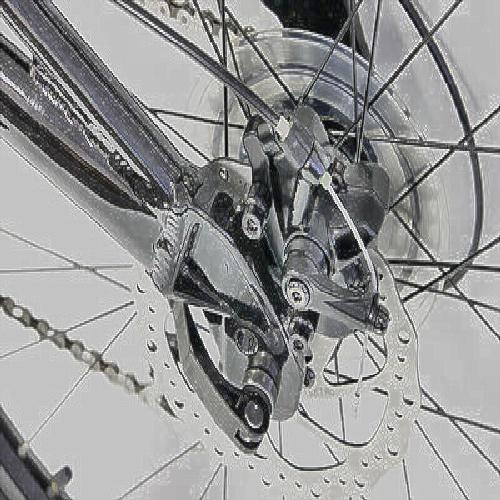bicycle: (63, 34, 444, 470)
